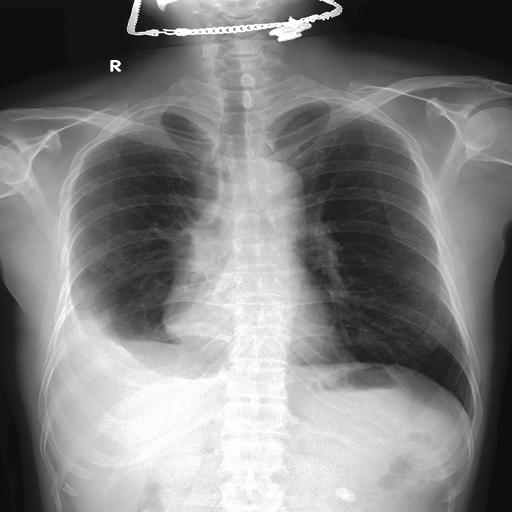Pleural effusion: (55, 288, 228, 402), (51, 299, 115, 358)
